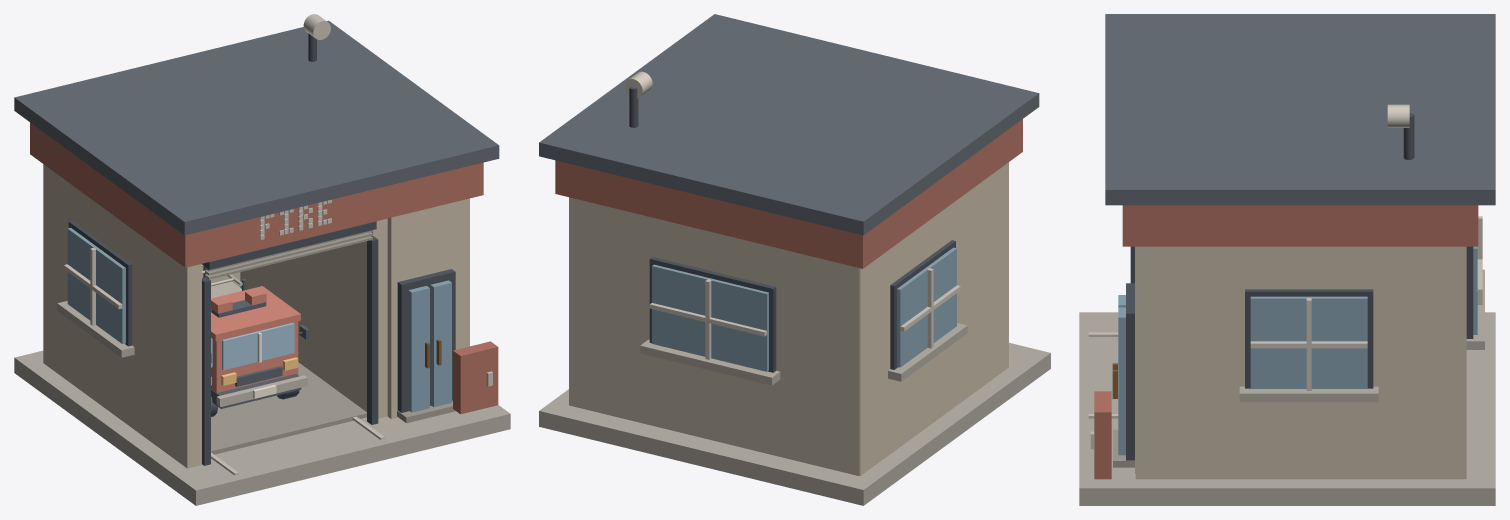
The model's file is komachi-fire-station.glb.
3 views of the same model, side by side, from view 1: azimuth 30°, elevation 25°; view 2: azimuth 150°, elevation 25°; view 3: azimuth 270°, elevation 25° (orthographic). The views are drawn at different scales.
Visible parts, largest first — view 1: Fire_Station_Open_Bay, Truck_Body_And_Equipment; view 2: Fire_Station_Open_Bay; view 3: Fire_Station_Open_Bay.
Part boxes in pixels (x1=…): Fire_Station_Open_Bay: x1=14, y1=14, x2=510, y2=505; Truck_Body_And_Equipment: x1=202, y1=264, x2=309, y2=408; Fire_Station_Open_Bay: x1=539, y1=14, x2=1050, y2=505; Fire_Station_Open_Bay: x1=1079, y1=14, x2=1495, y2=505.
Size of the model in its own units: 0.96 by 0.941 by 0.96.
